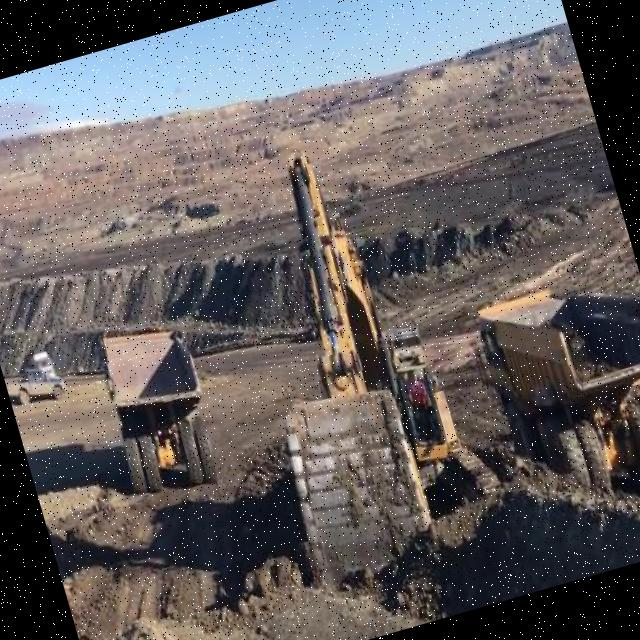Dump Truck: (468, 261, 640, 528), (86, 312, 227, 516)
Excavator: (196, 112, 520, 597)
